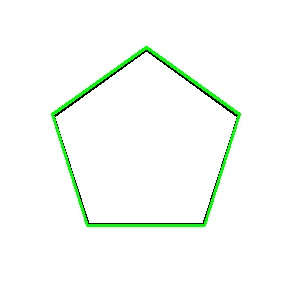line_segment: (51, 47, 240, 226)
